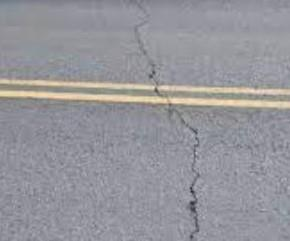crack: (126, 0, 202, 241)
